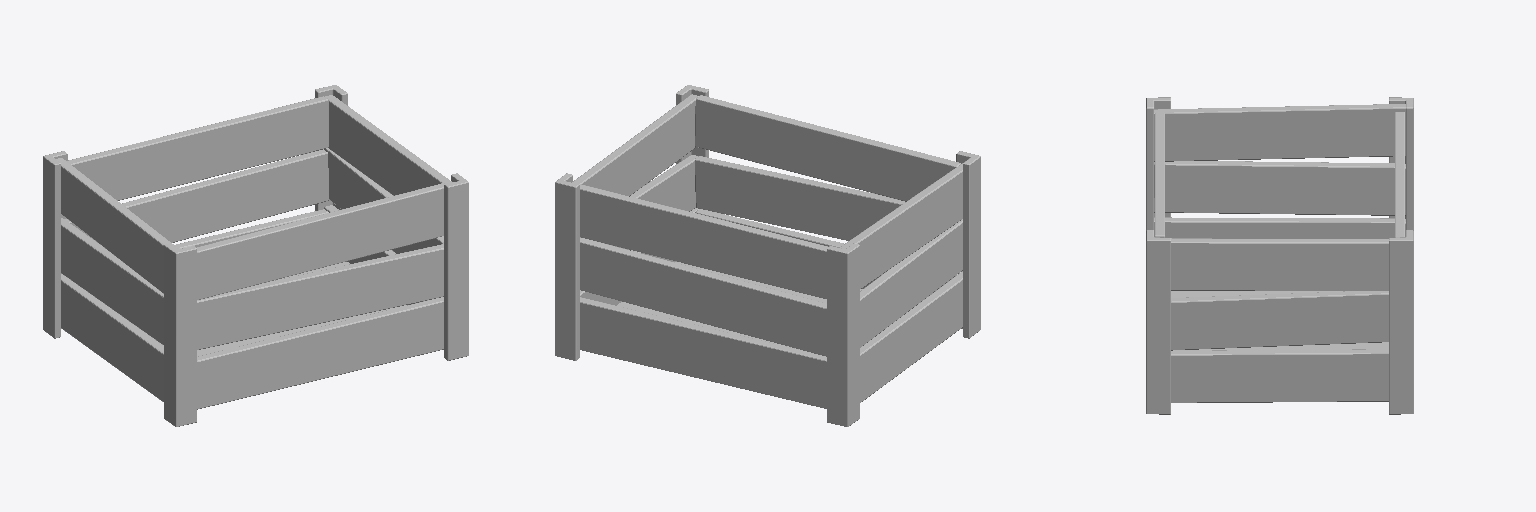
File: PaletSingle.obj
3 views of the same model, side by side, from view 1: azimuth 30°, elevation 25°; view 2: azimuth 150°, elevation 25°; view 3: azimuth 270°, elevation 25° (orthographic).
Visible parts, largest first — view 1: Palet_Palet; view 2: Palet_Palet; view 3: Palet_Palet.
Part boxes in pixels (left/top/right/bottom): Palet_Palet: left=43, top=85, right=468, bottom=426; Palet_Palet: left=555, top=85, right=980, bottom=426; Palet_Palet: left=1146, top=97, right=1413, bottom=414.
Bounding box in the file's own units: 7 × 3.96 × 5.51.